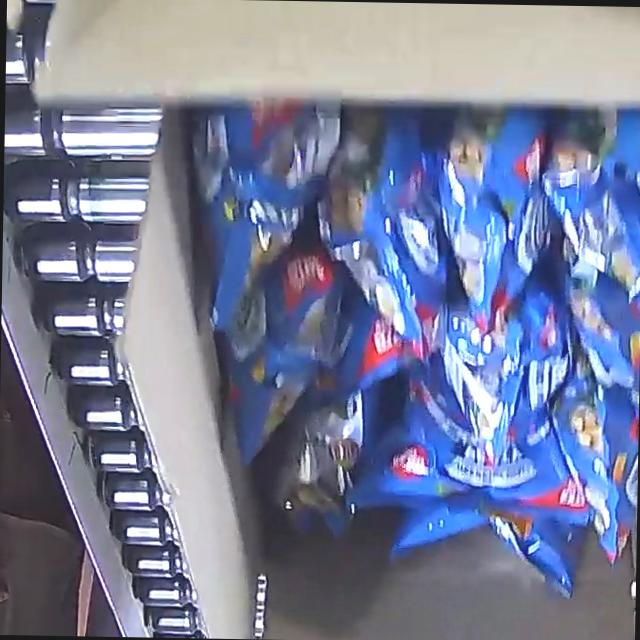paprika: (180, 94, 640, 601)
